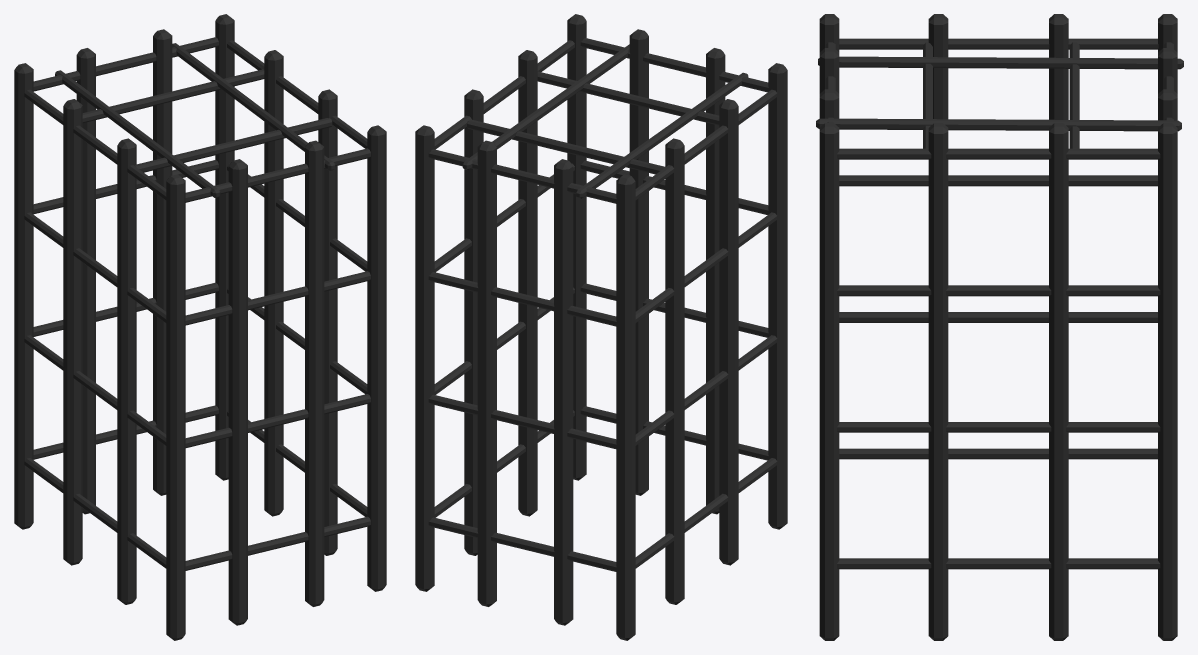
The model's file is cage.fbx.
3 views of the same model, side by side, from view 1: azimuth 30°, elevation 25°; view 2: azimuth 150°, elevation 25°; view 3: azimuth 270°, elevation 25° (orthographic). The views are drawn at different scales.
Parts seen in each view (by area): view 1: Cube.001; view 2: Cube.001; view 3: Cube.001.
Part boxes in pixels (x1=…): Cube.001: x1=14, y1=14, x2=386, y2=640; Cube.001: x1=415, y1=14, x2=787, y2=640; Cube.001: x1=816, y1=14, x2=1183, y2=640.
Size of the model in its own units: 0.9793 by 2 by 1.3.
